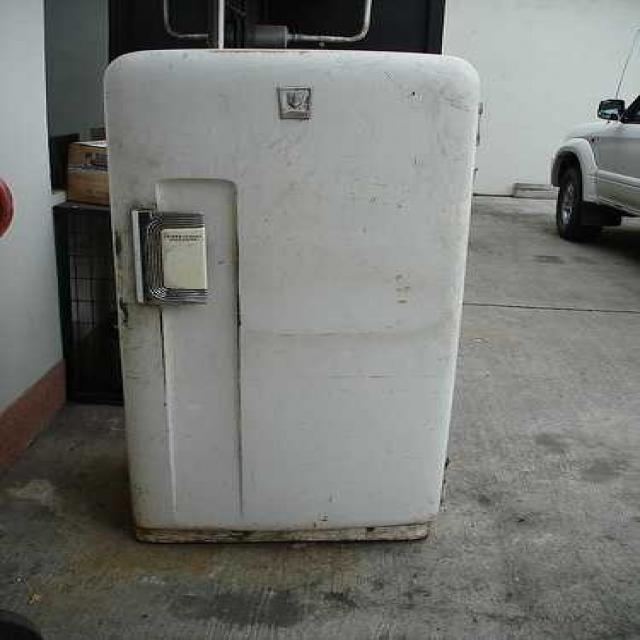refrigerator: (106, 49, 481, 542)
